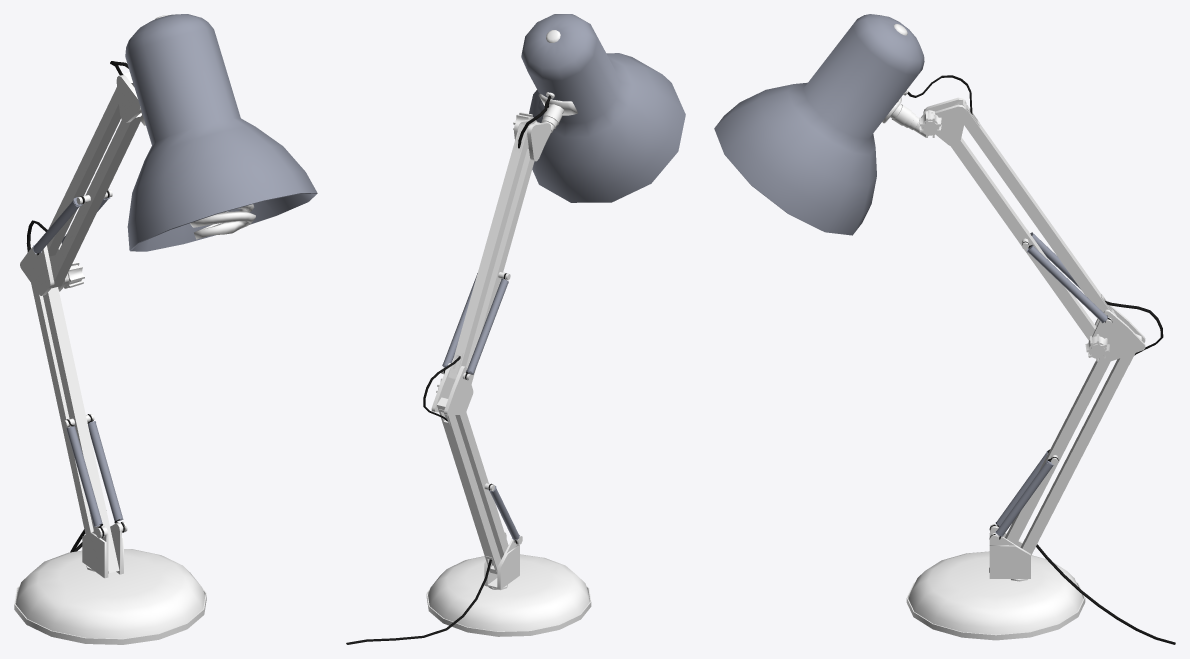
The model's file is LP_ALL.fbx.
The picture shows the model from 3 angles, left to right: view 1: azimuth 30°, elevation 25°; view 2: azimuth 150°, elevation 25°; view 3: azimuth 270°, elevation 25°; orthographic projection. The views are drawn at different scales.
Visible parts, largest first — view 1: LP_01, Cylinder001, Box060, Box009, LP01, Box055, LP01_lowpart, Cylinder002, Helix007, Plane009, Cylinder070, Cylinder079 (+2 smaller); view 2: LP_01, Cylinder001, LP01, Box055, Box009, Box060, LP01_lowpart, Cylinder002, Plane009, Cylinder069, Cylinder018, Line012; view 3: LP_01, Cylinder001, LP01, Box055, Box009, Box060, LP01_lowpart, Plane013, Cylinder002, Cylinder071, Cylinder077, Cylinder079.
Boxes of the visible parts, bbox=[...] form: LP_01: bbox=[125, 14, 317, 251]; Cylinder001: bbox=[16, 549, 205, 638]; Box060: bbox=[43, 287, 119, 573]; Box009: bbox=[51, 113, 141, 288]; LP01: bbox=[47, 72, 134, 256]; Box055: bbox=[31, 283, 93, 534]; LP01_lowpart: bbox=[82, 521, 127, 578]; Cylinder002: bbox=[14, 585, 206, 644]; Helix007: bbox=[190, 204, 255, 239]; Plane009: bbox=[20, 244, 54, 295]; Cylinder070: bbox=[66, 426, 102, 526]; Cylinder079: bbox=[88, 421, 123, 521]; LP_01: bbox=[521, 14, 685, 202]; Cylinder001: bbox=[428, 554, 589, 631]; LP01: bbox=[448, 124, 528, 379]; Box055: bbox=[437, 397, 500, 574]; Box009: bbox=[466, 149, 534, 383]; Box060: bbox=[455, 412, 508, 559]; LP01_lowpart: bbox=[484, 532, 522, 589]; Cylinder002: bbox=[426, 586, 591, 636]; Plane009: bbox=[444, 366, 473, 415]; Cylinder069: bbox=[467, 279, 508, 373]; Cylinder018: bbox=[527, 122, 550, 161]; Line012: bbox=[346, 559, 491, 644]; LP_01: bbox=[714, 14, 924, 235]; Cylinder001: bbox=[908, 551, 1083, 634]; LP01: bbox=[953, 100, 1116, 315]; Box055: bbox=[1020, 334, 1141, 555]; Box009: bbox=[950, 137, 1096, 340]; Box060: bbox=[989, 358, 1110, 572]; LP01_lowpart: bbox=[989, 524, 1030, 578]; Plane013: bbox=[1092, 309, 1145, 362]; Cylinder002: bbox=[906, 582, 1085, 640]; Cylinder071: bbox=[931, 104, 966, 146]; Cylinder077: bbox=[1026, 245, 1107, 322]; Cylinder079: bbox=[996, 460, 1053, 536].
Size of the model in its own units: 12.81 by 43.76 by 31.24.
